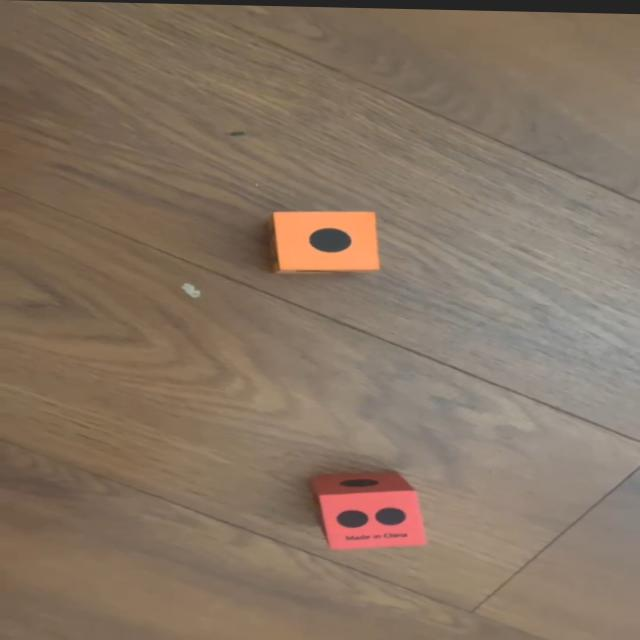red_block: (310, 467, 426, 550)
